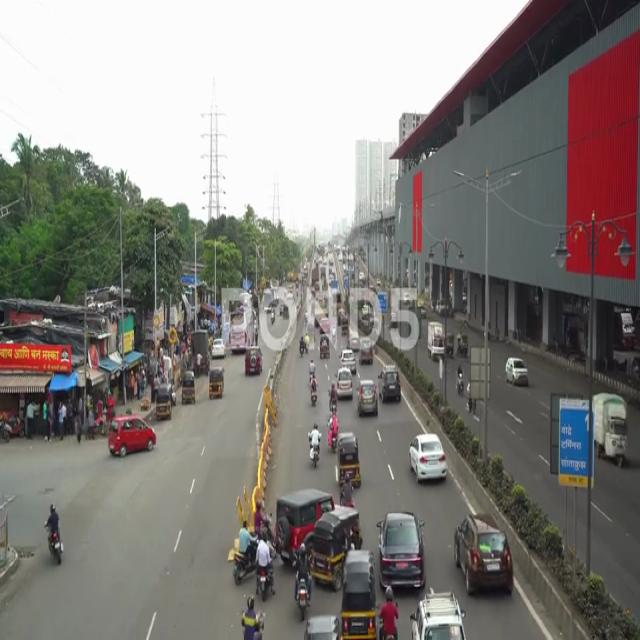car: (454, 516, 513, 593), (379, 509, 427, 593), (106, 415, 159, 459), (408, 432, 448, 487), (378, 366, 404, 405), (505, 351, 529, 391), (356, 380, 377, 416), (336, 366, 354, 398)
motorbike: (255, 528, 277, 599), (43, 500, 65, 570), (292, 542, 311, 618), (233, 518, 256, 580), (378, 583, 400, 640), (242, 589, 260, 640), (309, 425, 324, 468)
rikshaw: (342, 549, 376, 640), (338, 432, 362, 485)
truck: (594, 394, 632, 473)
